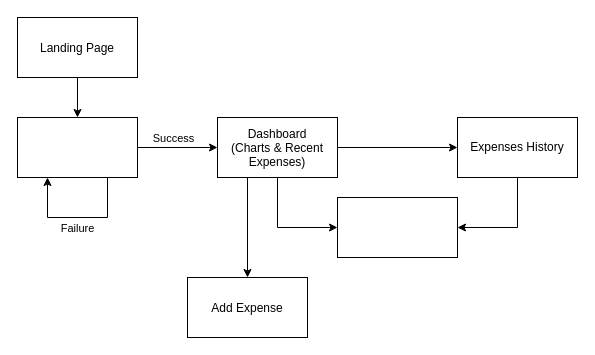
Some shapes in this 595 by 355 pixel diagram are drawn without their labels. The centre of each missing label's shape, as x and y in pixels:
"Login / Register" belongs at point (77, 147).
"View / Edit Expense Entry" belongs at point (397, 227).
